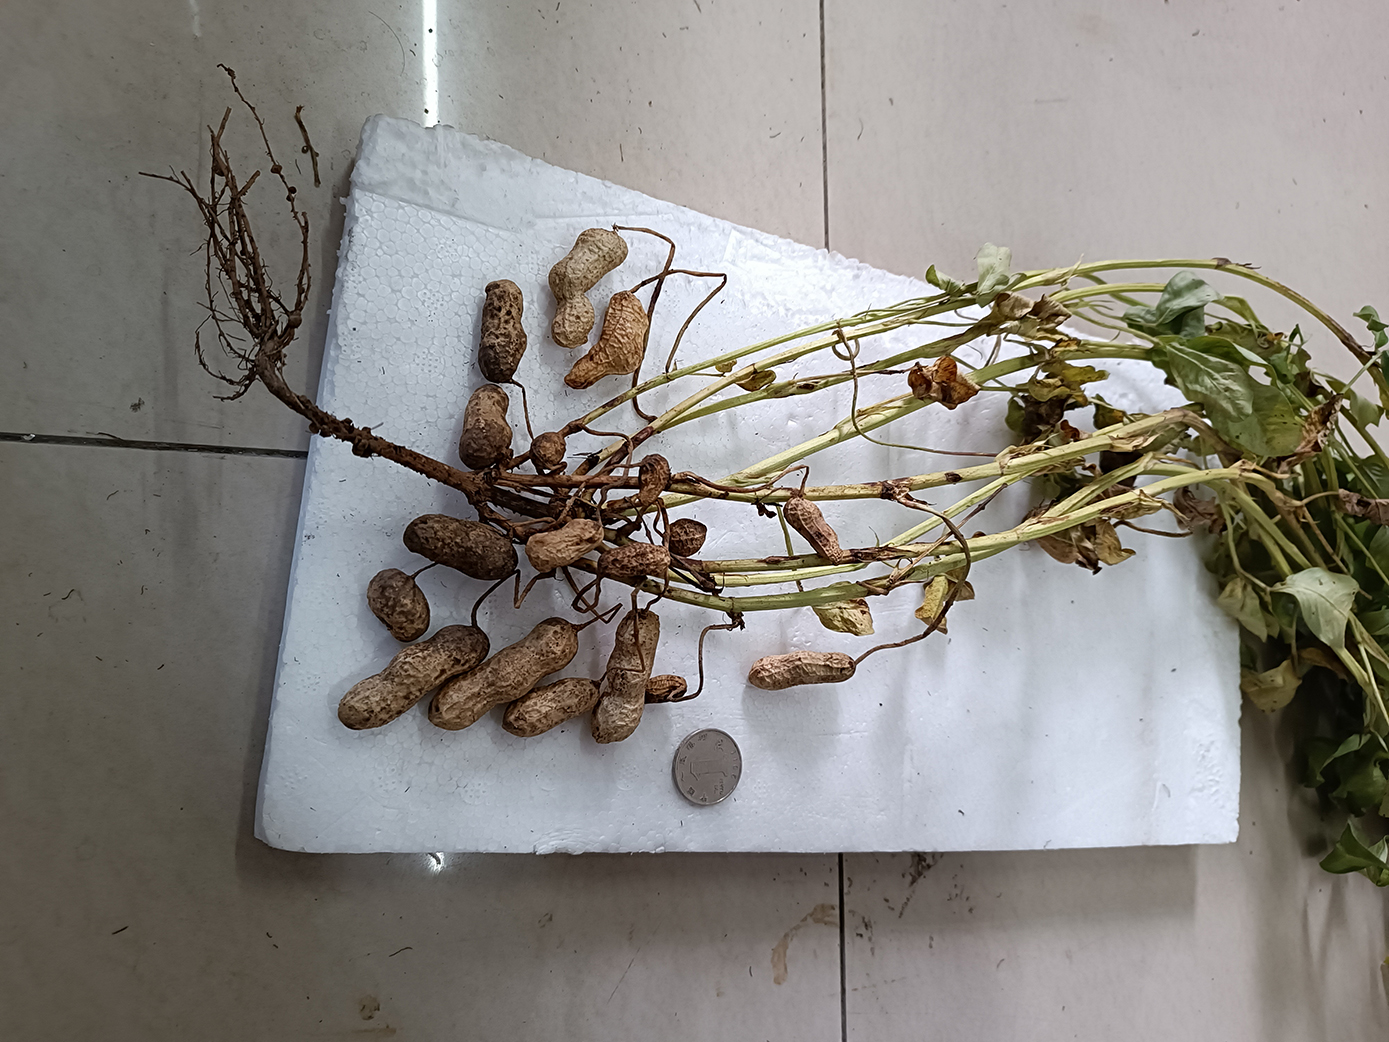h: (338, 624, 489, 731), (430, 620, 578, 728), (549, 225, 628, 349), (593, 610, 664, 746), (565, 292, 648, 389), (503, 679, 600, 738), (367, 568, 431, 642), (458, 384, 513, 470), (783, 498, 844, 566), (748, 651, 856, 690), (529, 518, 603, 571), (598, 544, 670, 582), (664, 519, 707, 561), (639, 453, 671, 506), (532, 432, 568, 472), (639, 675, 688, 702)
l: (403, 514, 520, 580), (479, 280, 526, 381)
